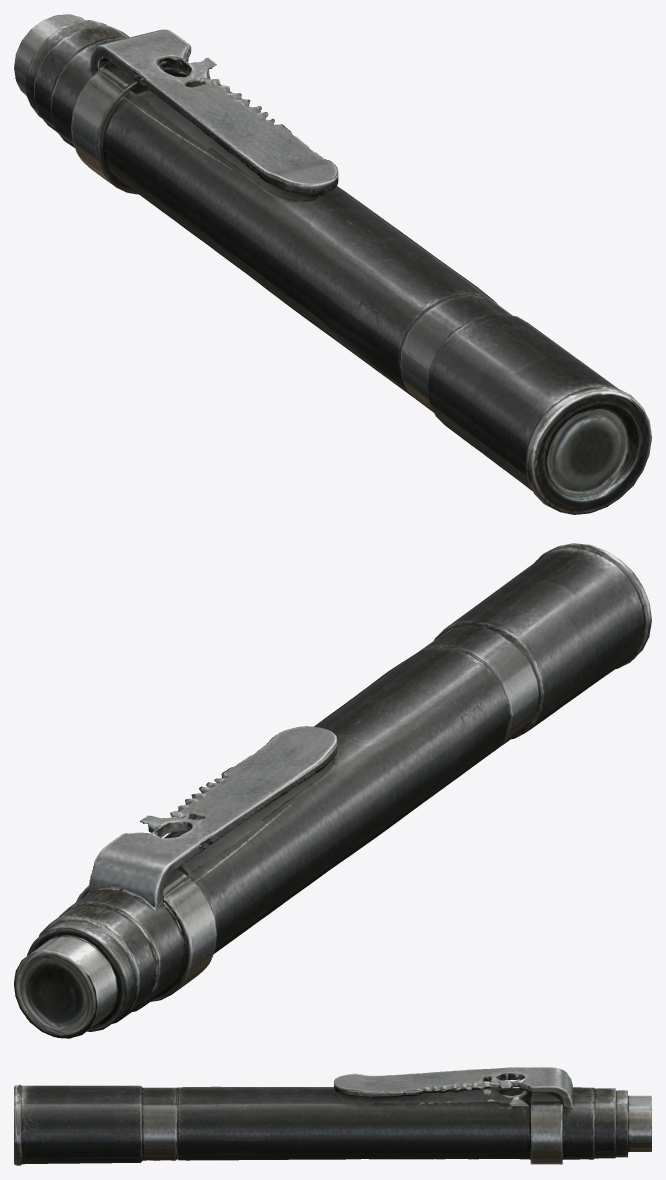
Rendered from Penlight.glb.
3 views of the same model, one above another, from view 1: azimuth 30°, elevation 25°; view 2: azimuth 150°, elevation 25°; view 3: azimuth 270°, elevation 25° (orthographic). The views are drawn at different scales.
Parts seen in each view (by area): view 1: texture_mapping; view 2: texture_mapping; view 3: texture_mapping.
Boxes of the visible parts, x1,y1,x2,y2 form: texture_mapping: (14,14,651,514); texture_mapping: (14,543,651,1038); texture_mapping: (14,1067,651,1165).
Bounding box in the file's own units: 0.1325 × 0.1477 × 0.9987.
1 material, 1 textured.
